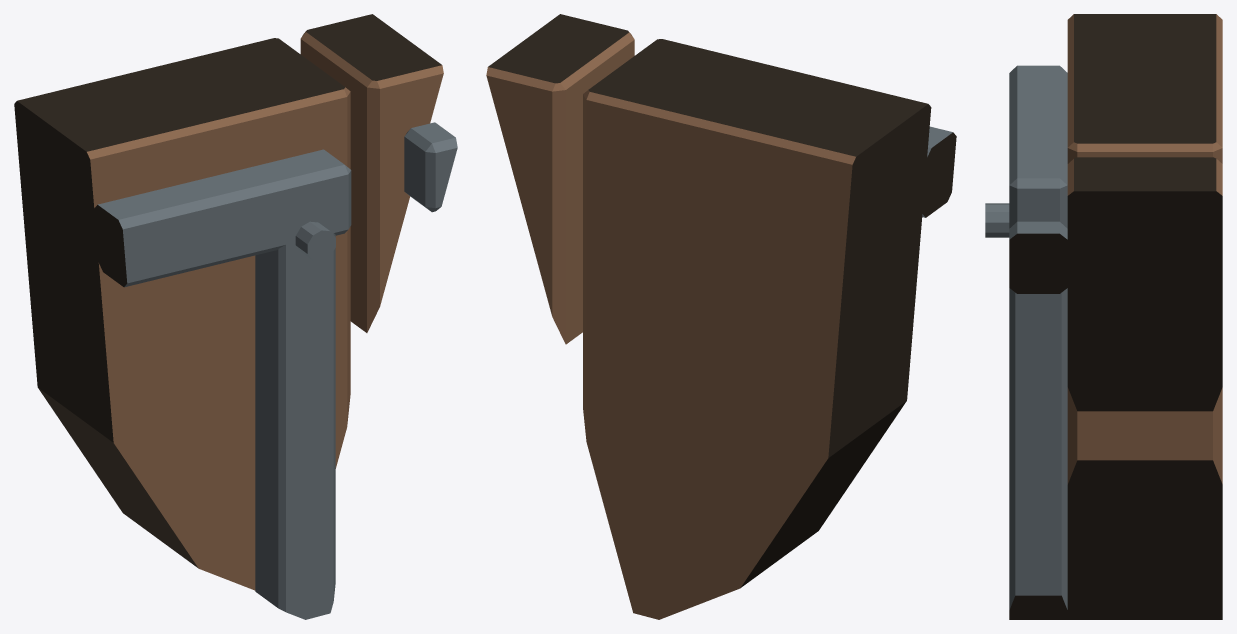
Rendered from SM_DoorShard_03_51.fbx.
The picture shows the model from 3 angles, left to right: view 1: azimuth 30°, elevation 25°; view 2: azimuth 150°, elevation 25°; view 3: azimuth 270°, elevation 25°; orthographic projection. The views are drawn at different scales.
Parts seen in each view (by area): view 1: SM_DoorShard_03_51; view 2: SM_DoorShard_03_51; view 3: SM_DoorShard_03_51.
Boxes of the visible parts, x1,y1,x2,y2 form: SM_DoorShard_03_51: (14,14,457,619); SM_DoorShard_03_51: (486,14,956,619); SM_DoorShard_03_51: (985,14,1222,619).
Bounding box in the file's own units: 43.23 × 24.5 × 56.98.
